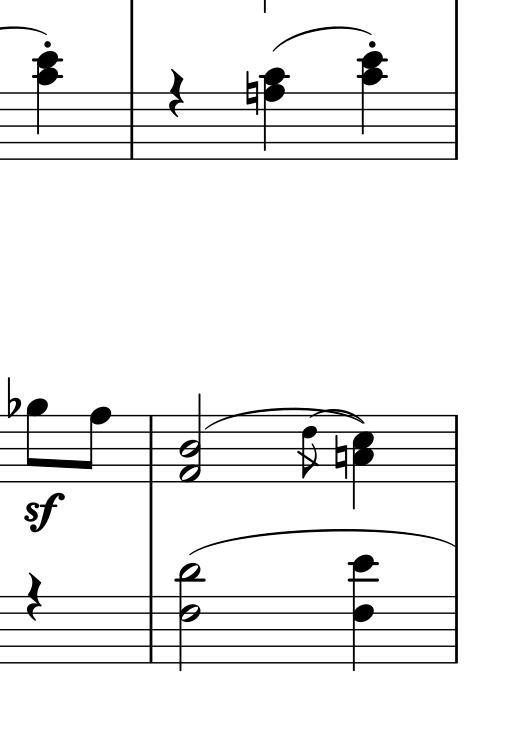2_6_11: (175, 562, 206, 672)
4_10_12: (32, 51, 63, 162), (357, 51, 388, 162)
4_3_5: (351, 414, 376, 510)
4_6_12: (347, 553, 378, 673)
4_8_10: (260, 66, 290, 162)
8_8: (76, 405, 112, 485)
8_9: (25, 395, 47, 484)
Flat: (6, 378, 20, 418)
Natural: (332, 433, 349, 482), (245, 71, 260, 115)
Rests4: (167, 68, 184, 118), (26, 570, 42, 621)
Single_barline: (445, 594, 465, 664), (450, 93, 463, 157), (450, 417, 462, 482)
Slur: (186, 529, 454, 556), (204, 406, 365, 429), (270, 25, 371, 53)
sf: (24, 493, 63, 532)
